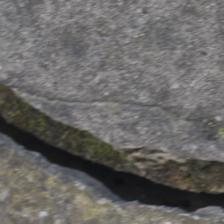Crack: (2, 45, 221, 172)
